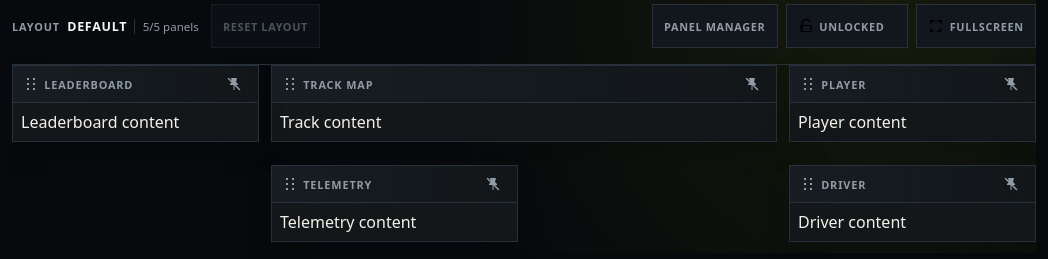
Test: resets immediately without FLIP animation when reduced motion is preferred
Click the button named "Unpin Player panel": coordinates (1011, 84) [993,66,1029,102]
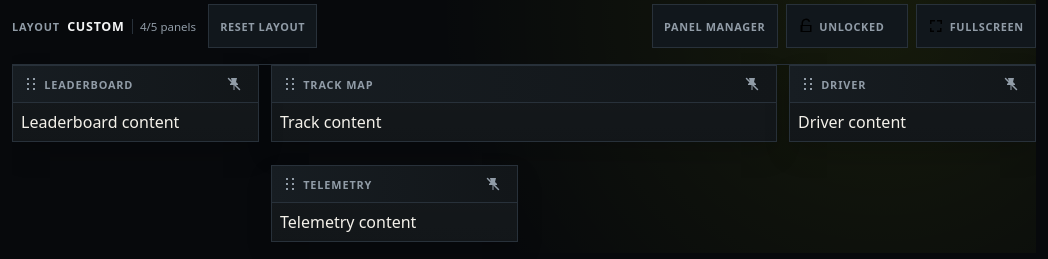
Click the button "Reset layout": coordinates (263, 26) [208,4,317,48]
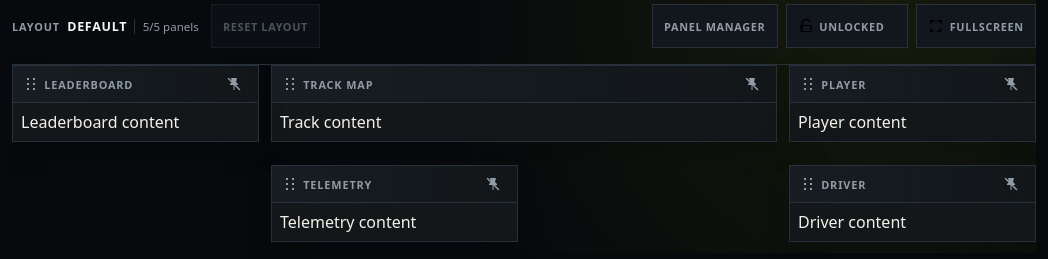
Check: the element "Player" is shown, box [789,65,1036,142]
